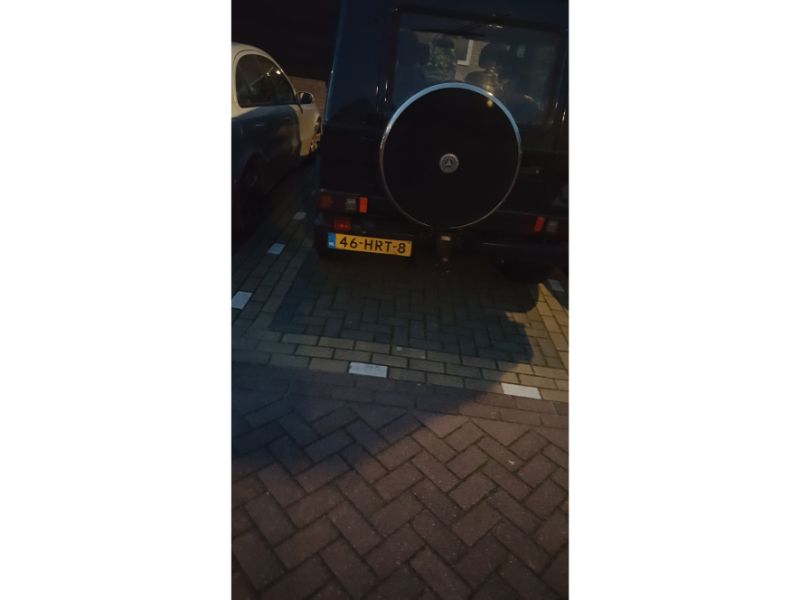kenteken: (326, 232, 414, 259)
